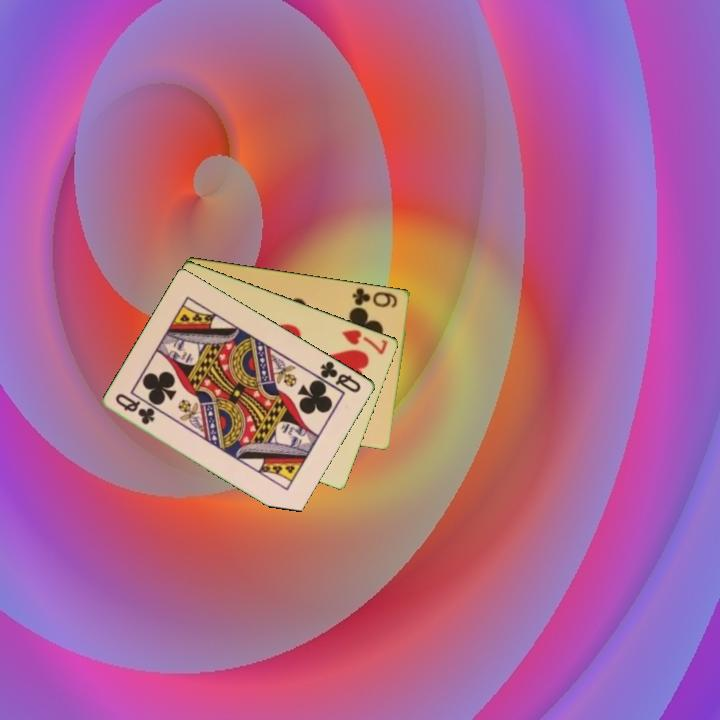6c: (349, 284, 400, 310)
7h: (338, 326, 391, 357)
Qc: (317, 357, 364, 396), (112, 390, 158, 428)
